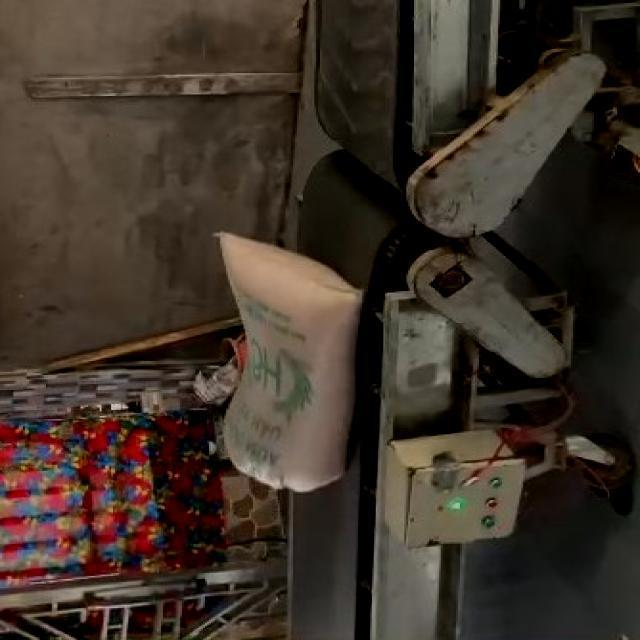gunny_bag: (217, 233, 362, 493)
